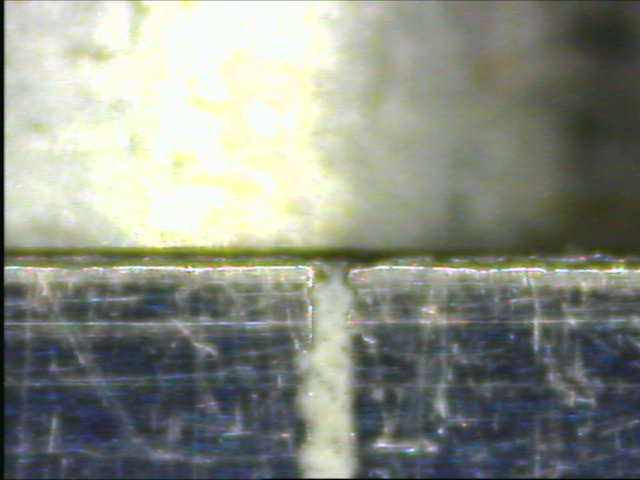line: (295, 248, 362, 479)
